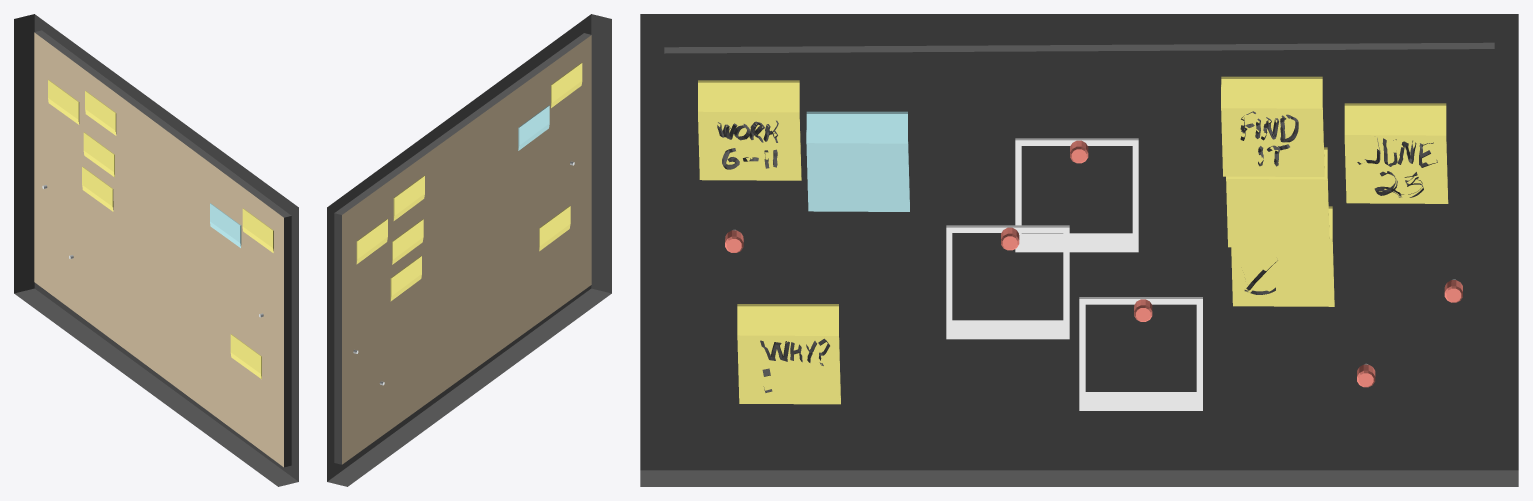
File: Cork Board.glb
3 views of the same model, side by side, from view 1: azimuth 30°, elevation 25°; view 2: azimuth 150°, elevation 25°; view 3: azimuth 270°, elevation 25° (orthographic). The views are drawn at different scales.
Parts seen in each view (by area): view 1: Node; view 2: Node; view 3: Node.
Boxes of the visible parts, box(x1,y1,x2,y2) form: Node: box(14, 14, 298, 486); Node: box(327, 14, 611, 486); Node: box(640, 14, 1518, 486).
Size of the model in its own units: 0.1329 by 1.02 by 1.78.
